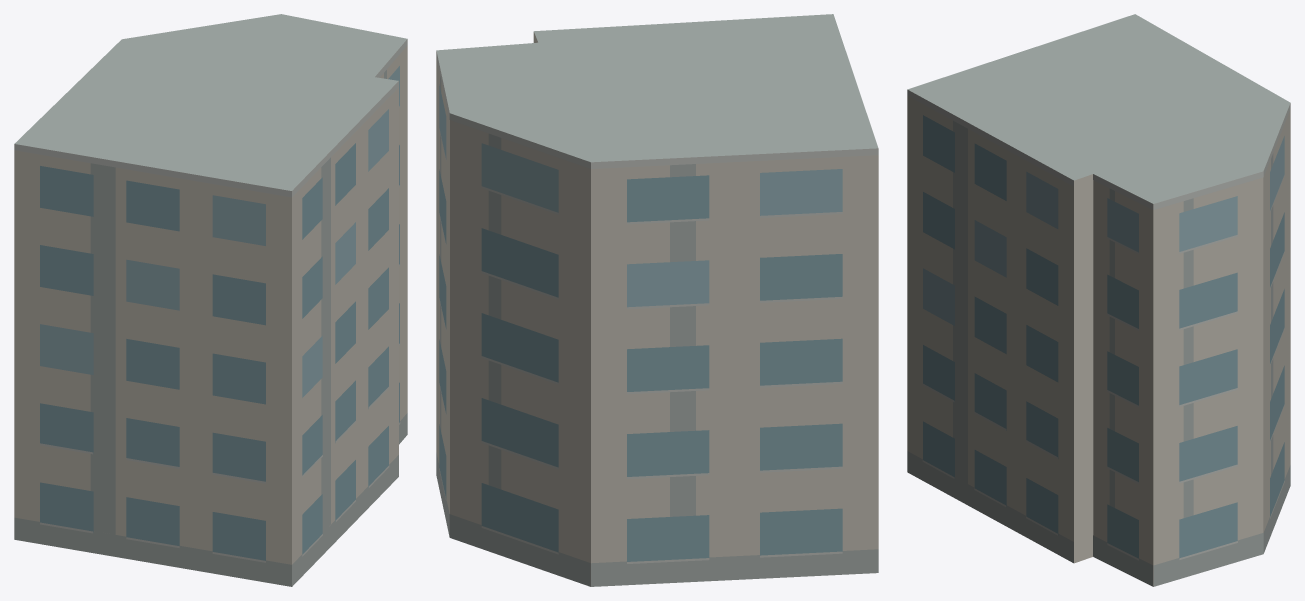
The model's file is residential-6683d8af-6960-4066-8d1d-105afcddd8d1.glb.
3 renders of one model, left to right at view 1: azimuth 30°, elevation 25°; view 2: azimuth 150°, elevation 25°; view 3: azimuth 270°, elevation 25°, orthographic. The views are drawn at different scales.
Parts seen in each view (by area): view 1: residential-6683d8af-6960-4066-8d1d-105afcddd8d1.tmp; view 2: residential-6683d8af-6960-4066-8d1d-105afcddd8d1.tmp; view 3: residential-6683d8af-6960-4066-8d1d-105afcddd8d1.tmp.
Part boxes in pixels (left/top/right/bottom): residential-6683d8af-6960-4066-8d1d-105afcddd8d1.tmp: left=14, top=14, right=407, bottom=586; residential-6683d8af-6960-4066-8d1d-105afcddd8d1.tmp: left=436, top=14, right=878, bottom=586; residential-6683d8af-6960-4066-8d1d-105afcddd8d1.tmp: left=907, top=14, right=1290, bottom=586.
Size of the model in its own units: 16.25 by 15.25 by 13.85.
